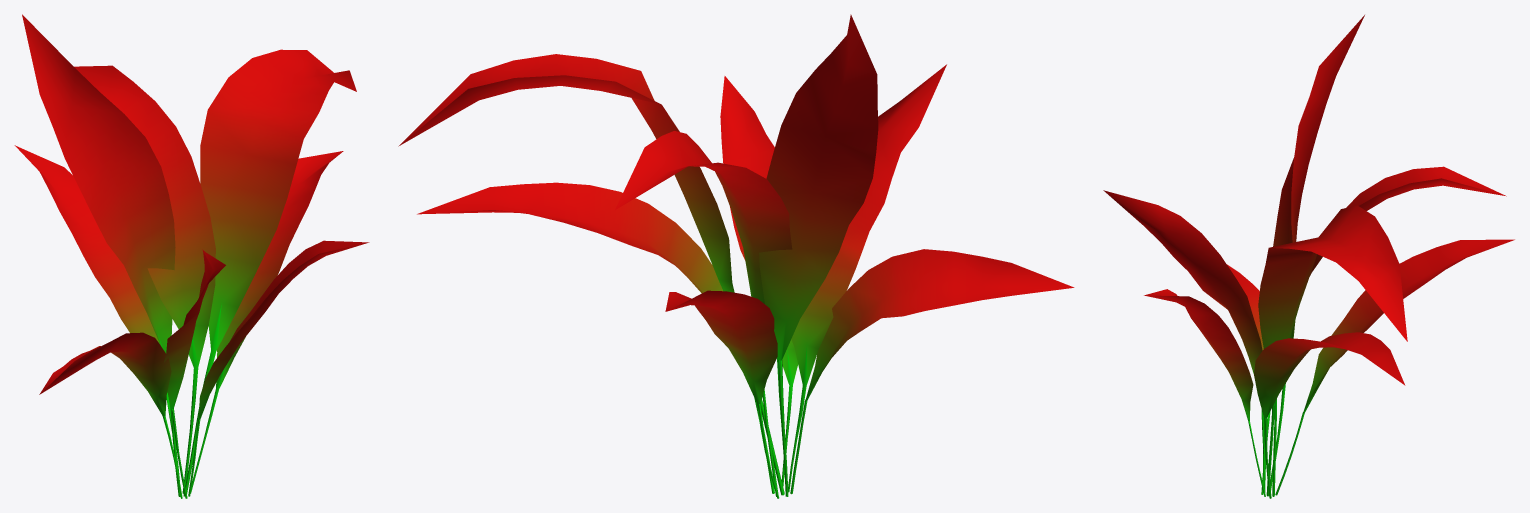
File: Cast - Iron Plant_LOD0_Var5_shdmr.fbx
3 renders of one model, left to right at view 1: azimuth 30°, elevation 25°; view 2: azimuth 150°, elevation 25°; view 3: azimuth 270°, elevation 25°, orthographic. The views are drawn at different scales.
Visible parts, largest first — view 1: _5703_Var5_LOD0; view 2: _5703_Var5_LOD0; view 3: _5703_Var5_LOD0.
Part boxes in pixels (left/top/right/bottom): _5703_Var5_LOD0: left=14, top=14, right=369, bottom=498; _5703_Var5_LOD0: left=398, top=14, right=1074, bottom=498; _5703_Var5_LOD0: left=1103, top=15, right=1514, bottom=498.
Size of the model in its own units: 27.58 by 27.94 by 24.17.
